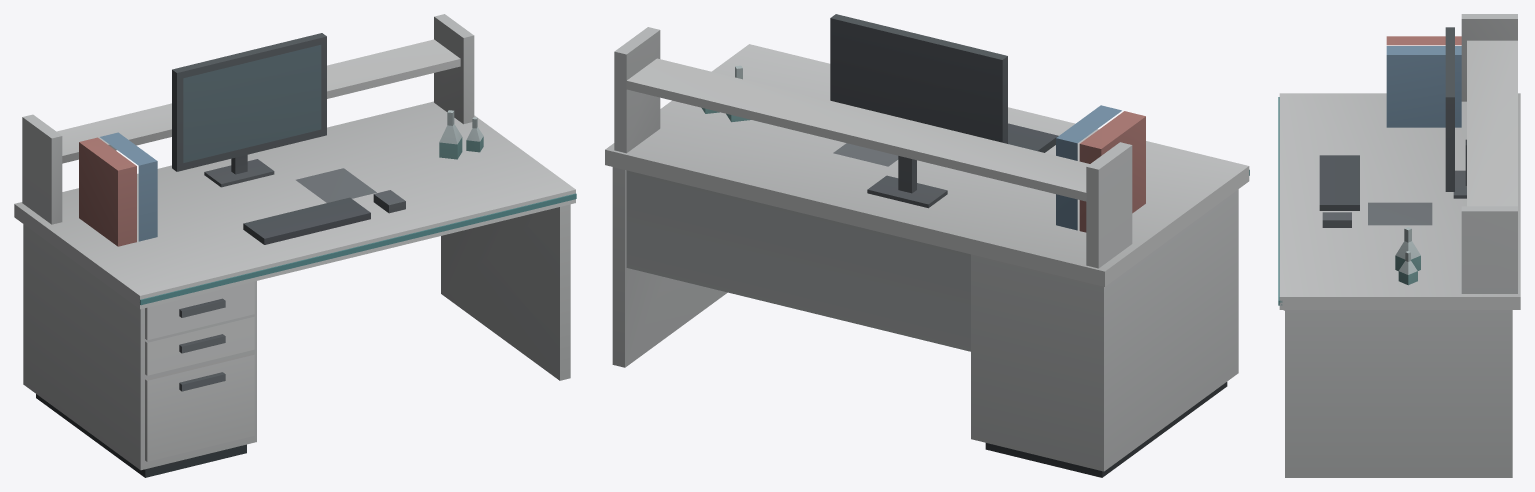
File: desk.lod1.glb
3 renders of one model, left to right at view 1: azimuth 30°, elevation 25°; view 2: azimuth 150°, elevation 25°; view 3: azimuth 270°, elevation 25°, orthographic. The views are drawn at different scales.
Bounding box in the file's own units: 1.8 × 1.26 × 0.905.
